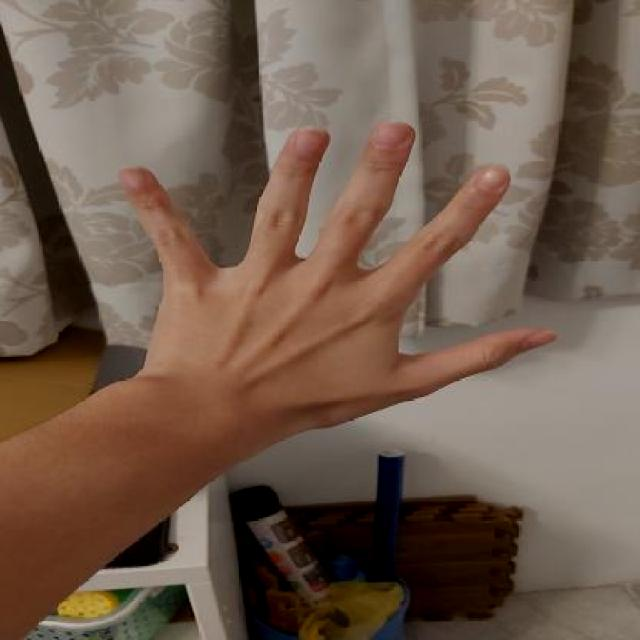no_glove: (100, 110, 575, 447)
